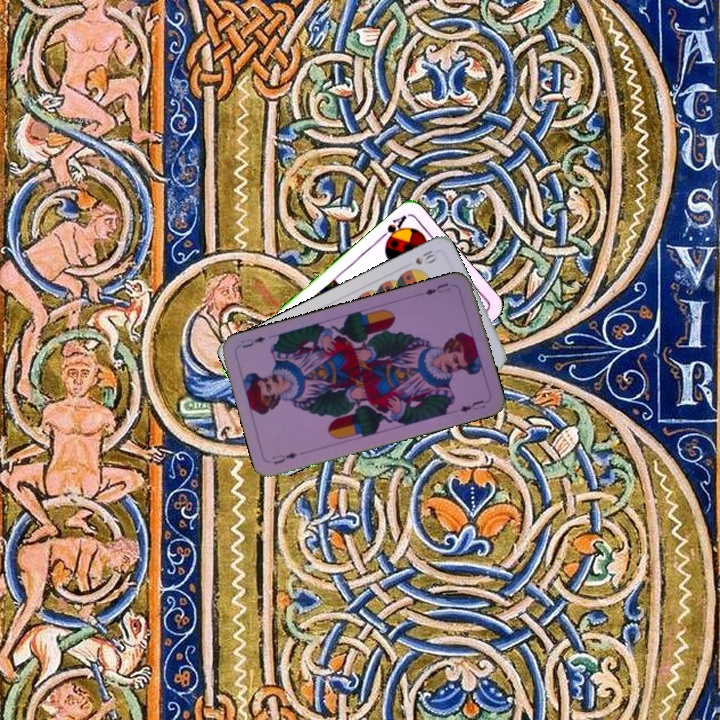EU: (268, 448, 300, 467), (420, 279, 451, 298)
S10: (411, 246, 440, 267)
SA: (375, 211, 410, 247)
